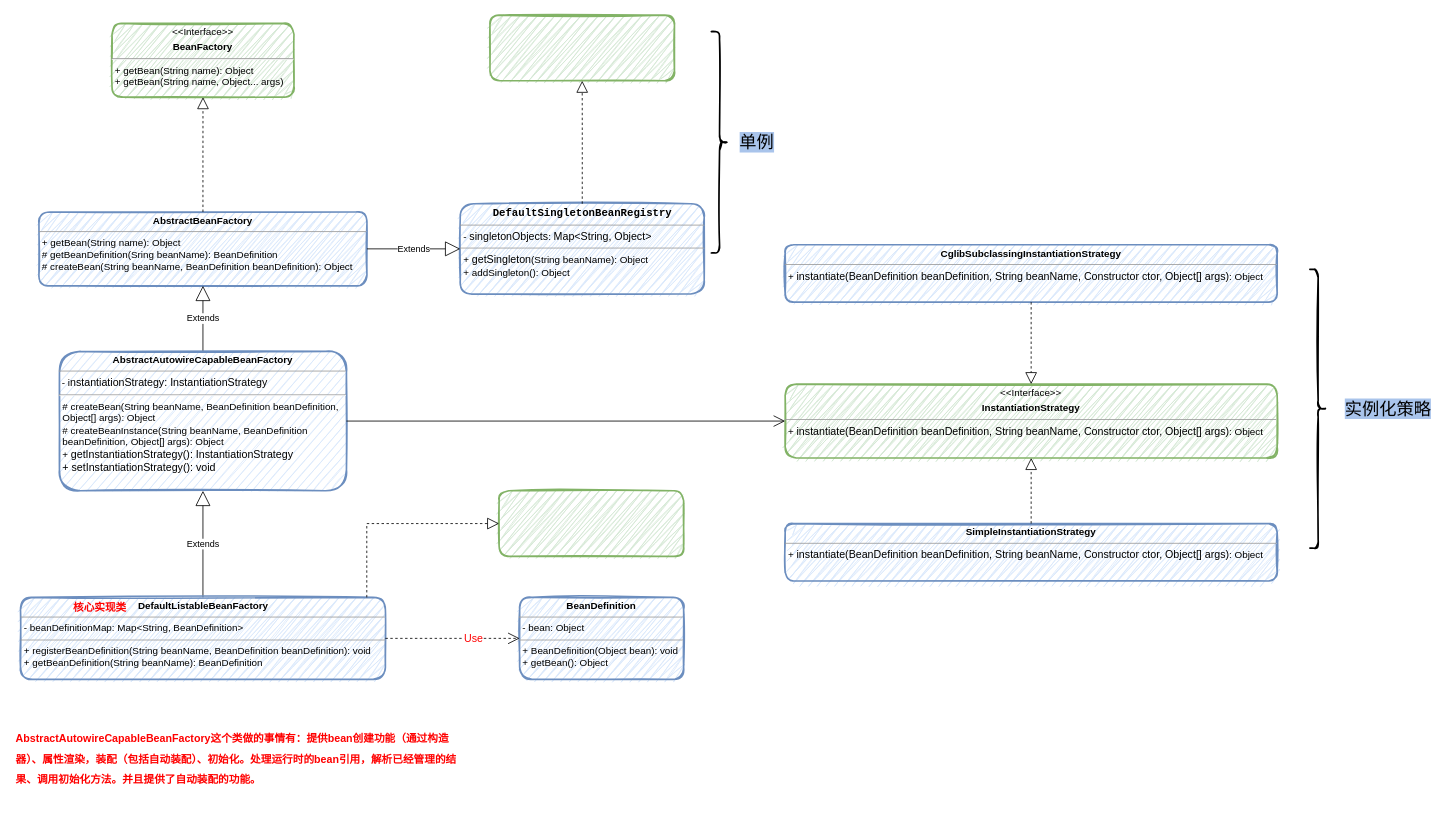
Some shapes in this 1455 by 816 pixel diagram are drawn without their labels. The box of each missing label's shape, as (x1, y1, x2, y2) in pixels:
<<Interface>> BeanDefinitionRegistry + getSingleton(String name): Object: (498, 490, 684, 557)
<<Interface>> SingletonBeanRegistry + getSingleton(String name): Object: (489, 14, 675, 81)
